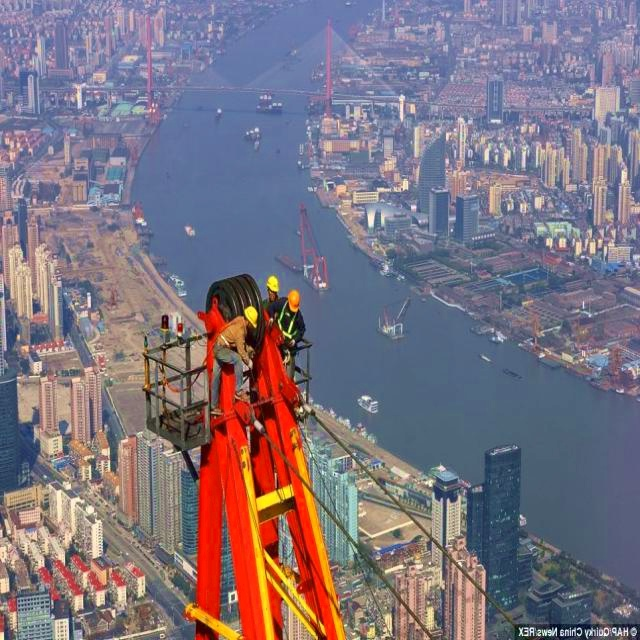Con_Casco: (287, 287, 301, 316), (265, 275, 279, 302), (243, 305, 257, 331)
